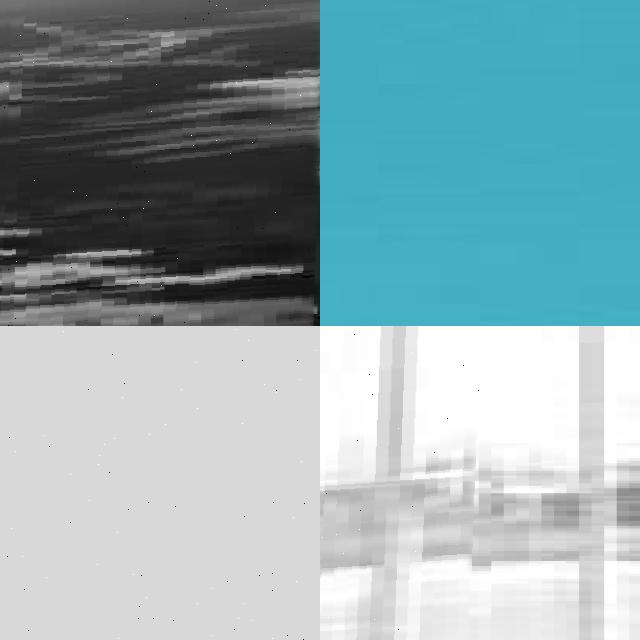street light: (0, 0, 320, 326), (0, 326, 320, 640), (320, 326, 640, 640), (453, 326, 640, 640), (320, 326, 491, 640)
